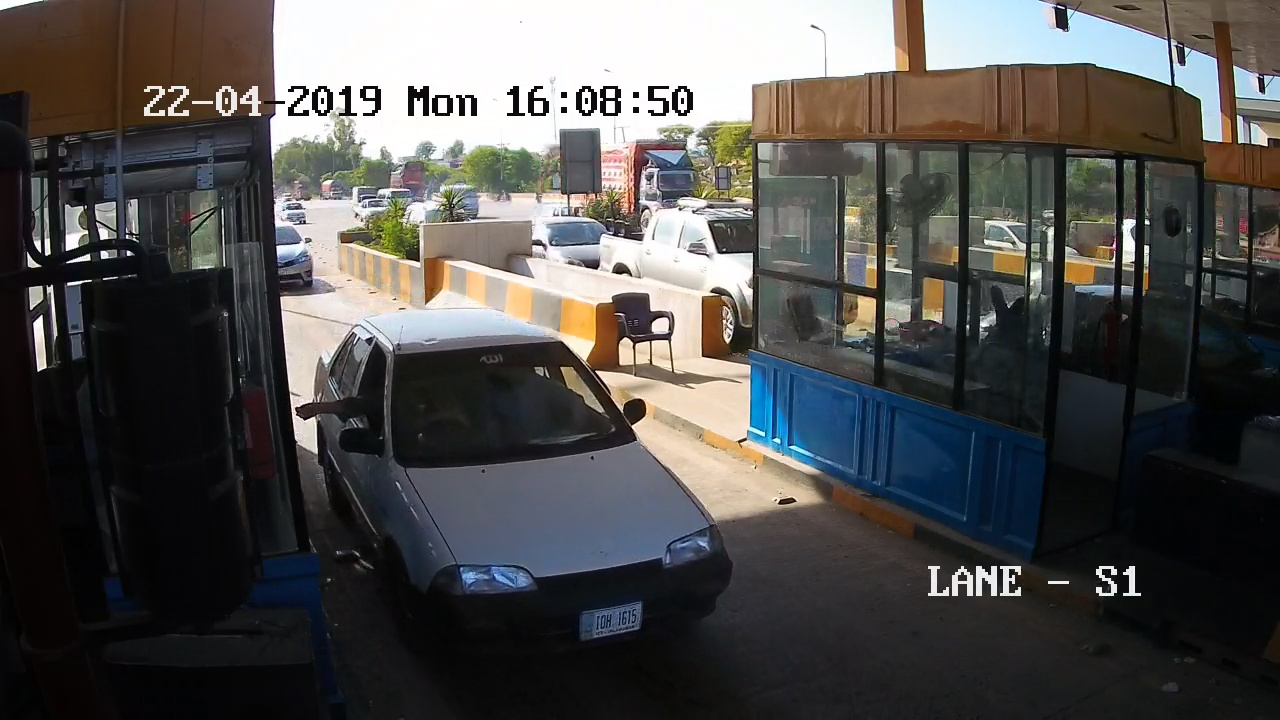Number Plate (Car): (578, 606, 642, 637)
